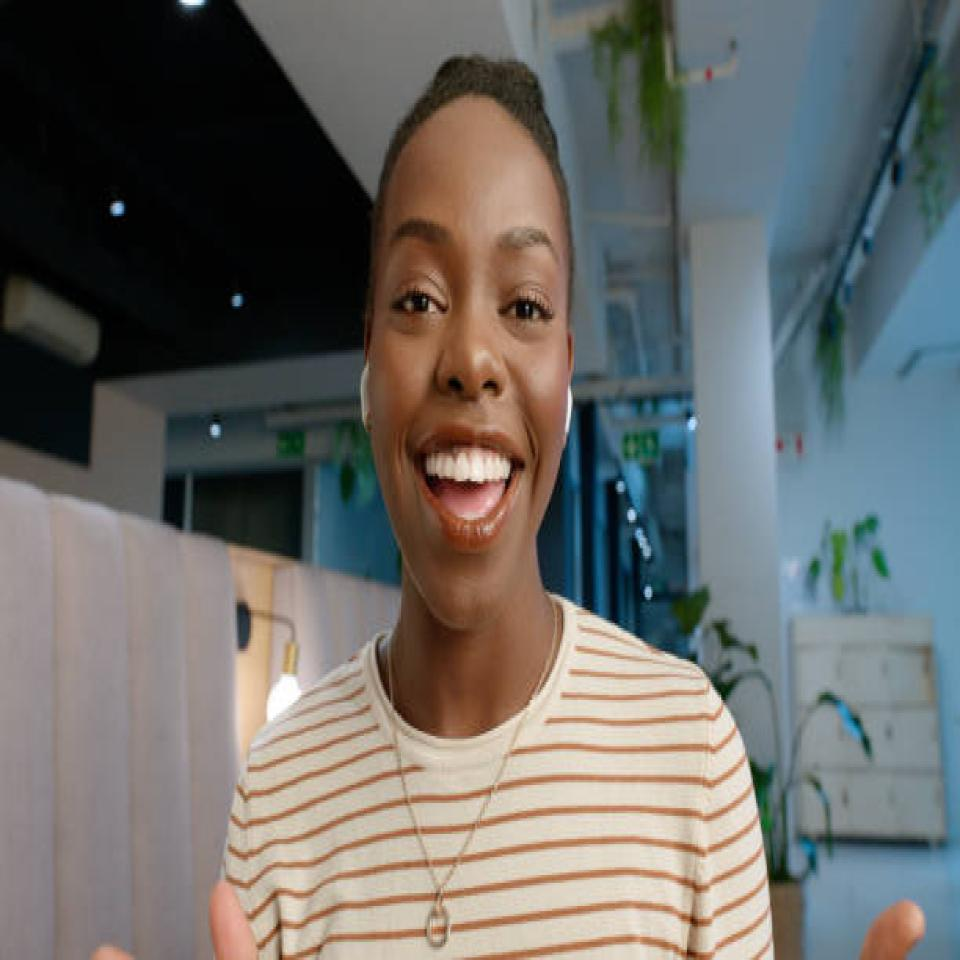Happiness: (371, 120, 568, 622)
